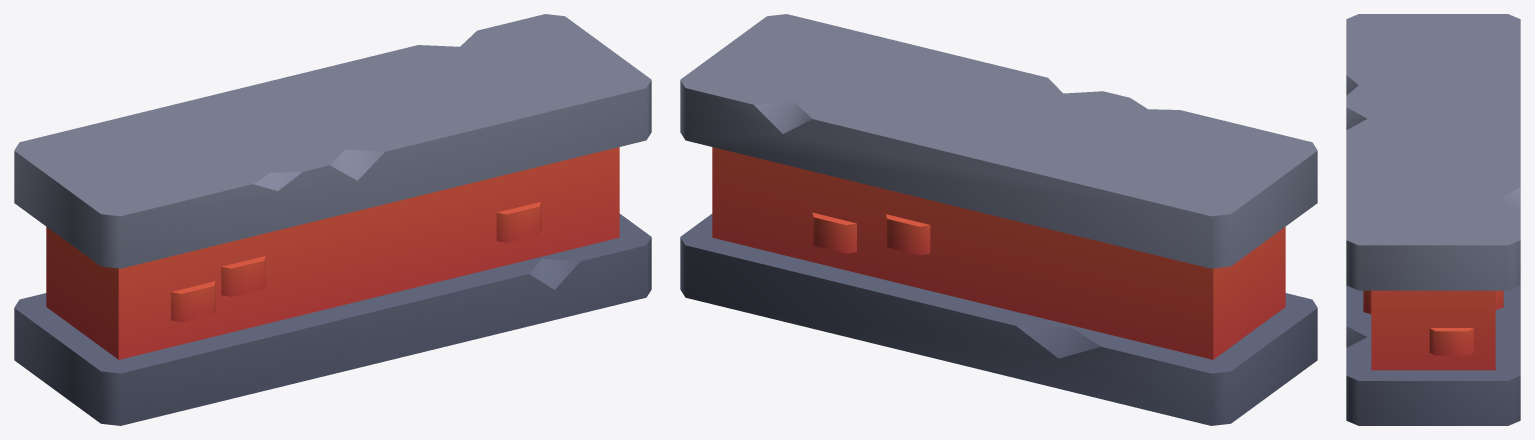
File: fpskit_wall_low.glb
3 renders of one model, left to right at view 1: azimuth 30°, elevation 25°; view 2: azimuth 150°, elevation 25°; view 3: azimuth 270°, elevation 25°, orthographic. The views are drawn at different scales.
Parts seen in each view (by area): view 1: wall-low; view 2: wall-low; view 3: wall-low.
Part boxes in pixels (left/top/right/bottom): wall-low: left=14, top=14, right=651, bottom=425; wall-low: left=680, top=14, right=1317, bottom=425; wall-low: left=1346, top=14, right=1520, bottom=425.
Bounding box in the file's own units: 2.2 × 0.8 × 0.7.
Materials: 1 (1 with a texture image).
